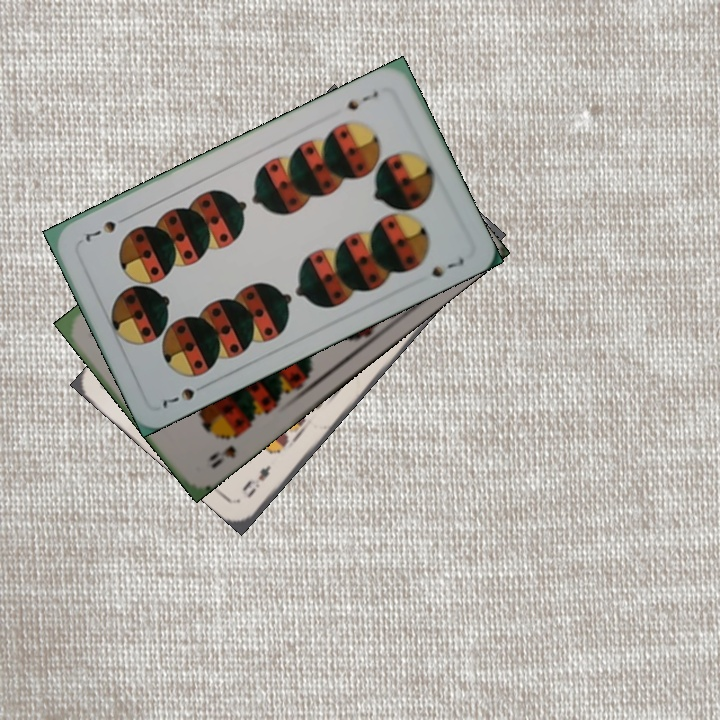E9: (238, 460, 274, 501)
S7: (158, 384, 198, 411), (343, 86, 381, 113)
S9: (204, 427, 247, 471)
